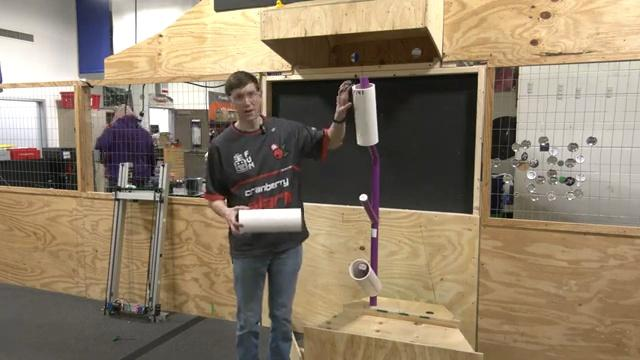CORAL: (351, 76, 379, 146), (237, 207, 302, 234), (349, 259, 382, 297)
